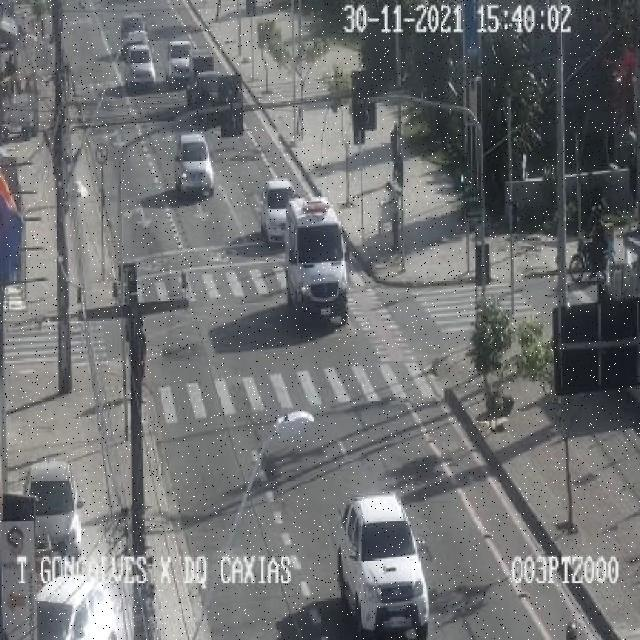Car: (335, 492, 428, 637), (34, 572, 130, 638), (22, 459, 82, 558), (174, 131, 216, 198), (260, 180, 298, 244), (121, 41, 158, 90), (165, 39, 194, 86), (120, 15, 148, 44)
Cycle: (566, 238, 607, 284)
Van: (284, 197, 348, 326)
